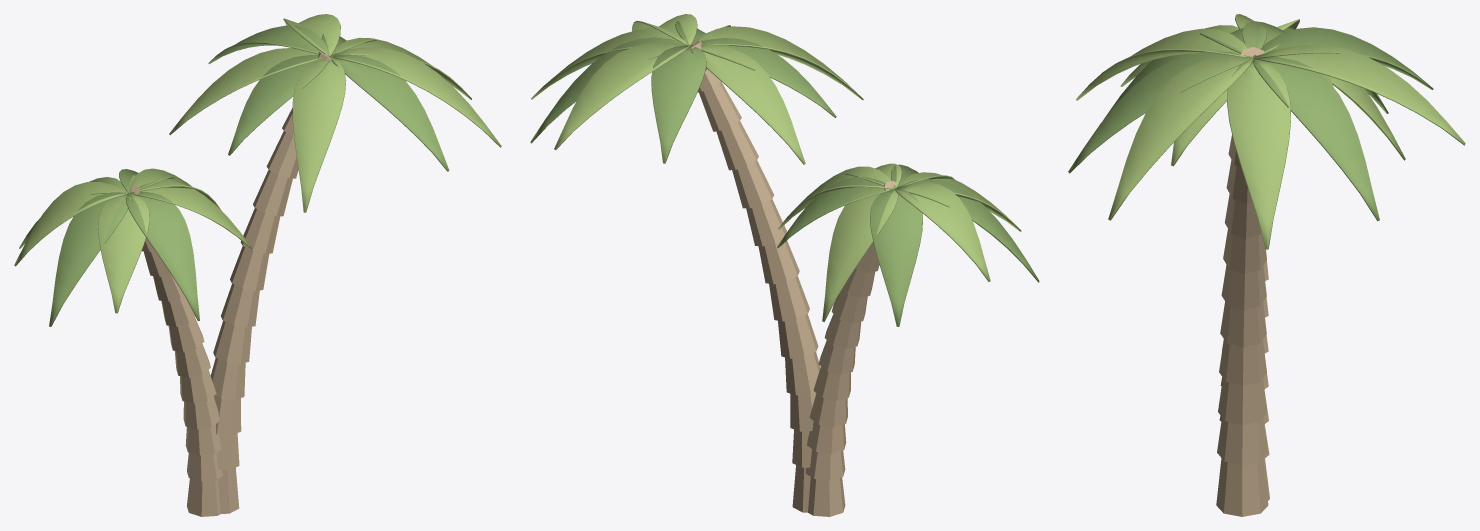
Rendered from Palm_Pair_2.gltf.
The picture shows the model from 3 angles, left to right: view 1: azimuth 30°, elevation 25°; view 2: azimuth 150°, elevation 25°; view 3: azimuth 270°, elevation 25°; orthographic projection. The views are drawn at different scales.
Parts seen in each view (by area): view 1: Palm_Pair_2; view 2: Palm_Pair_2; view 3: Palm_Pair_2.
Boxes of the visible parts, x1,y1,x2,y2 form: Palm_Pair_2: [14, 14, 501, 516]; Palm_Pair_2: [530, 14, 1039, 516]; Palm_Pair_2: [1068, 14, 1465, 516].
Bounding box in the file's own units: 5.32 × 4.74 × 3.24.
